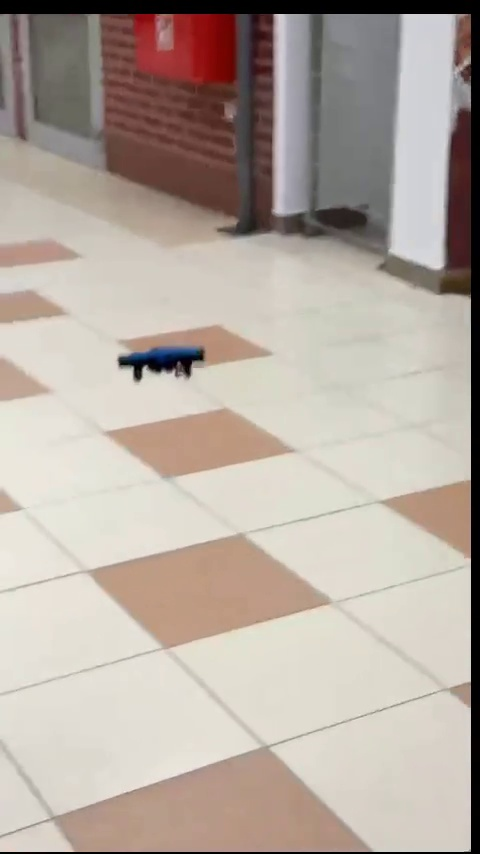drone: (122, 346, 206, 385)
